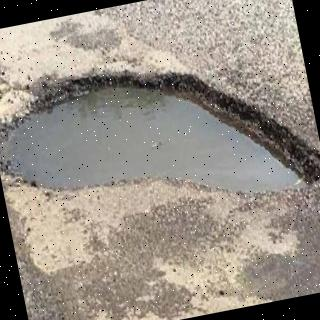pothole: (0, 72, 320, 193)
